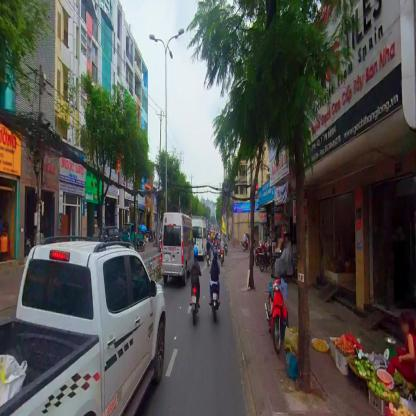Cam dung va do: (222, 205, 226, 212)
